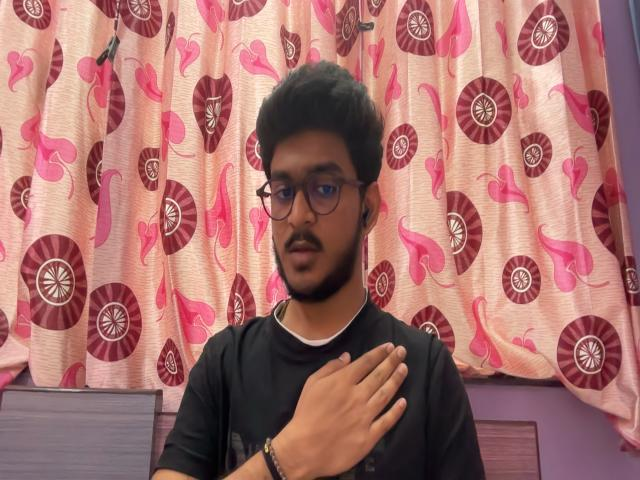Please: (273, 336, 416, 480)
